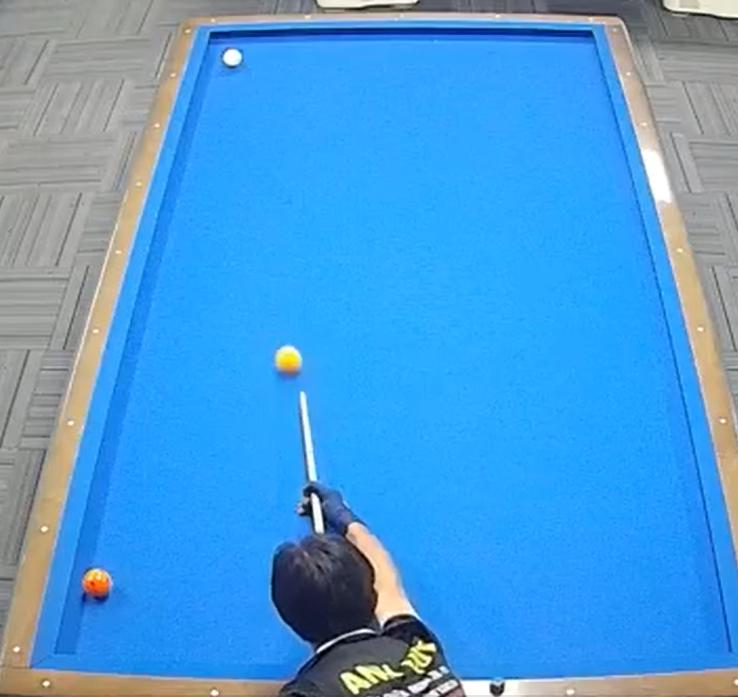orange ball: (77, 560, 119, 611)
white ball: (218, 41, 247, 73)
yellow ball: (268, 341, 306, 388)
